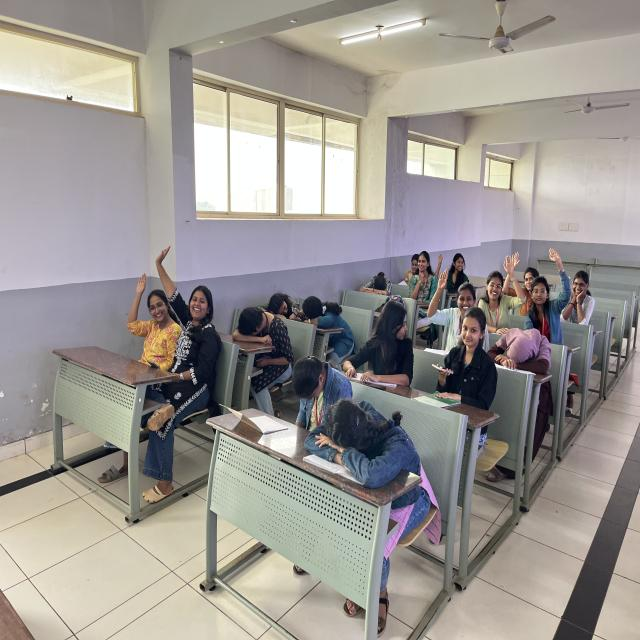Hand Rising: (150, 239, 225, 417), (127, 269, 181, 371), (527, 243, 575, 334), (423, 266, 479, 342), (476, 246, 524, 326)
Sleeping: (306, 402, 441, 551), (231, 301, 291, 395), (486, 322, 557, 393), (302, 293, 354, 365), (252, 286, 310, 327), (357, 267, 398, 303)
